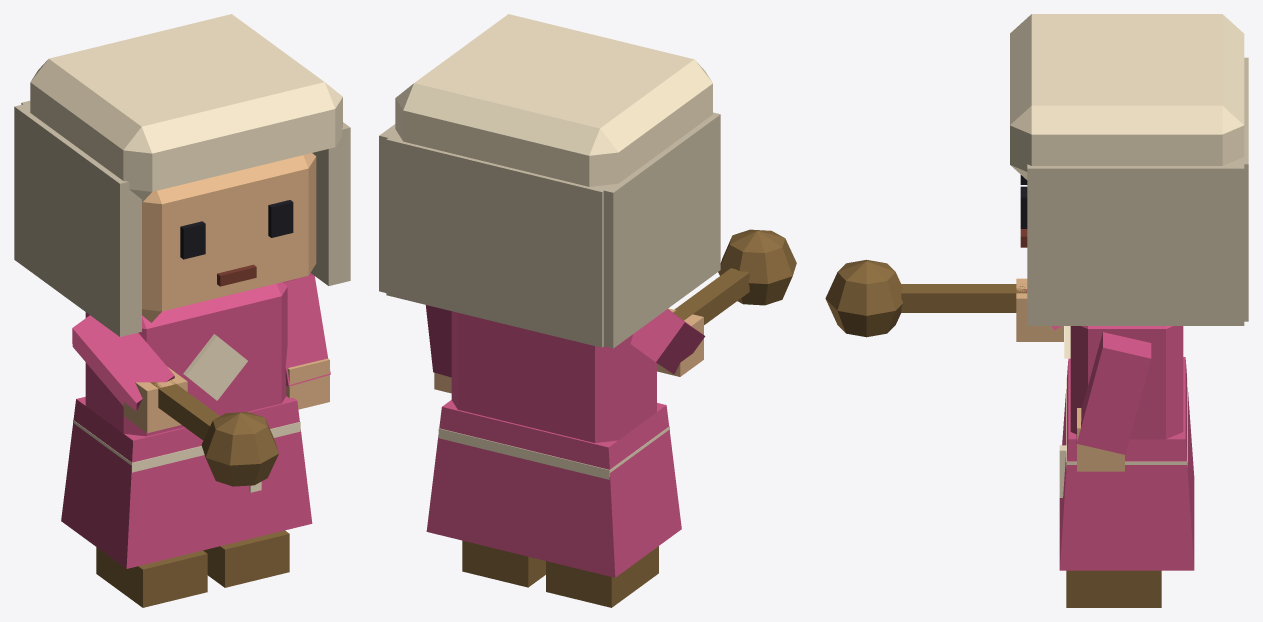
File: cleric_common.glb
3 renders of one model, left to right at view 1: azimuth 30°, elevation 25°; view 2: azimuth 150°, elevation 25°; view 3: azimuth 270°, elevation 25°, orthographic. The views are drawn at different scales.
Parts seen in each view (by area): view 1: cleric_common_mesh; view 2: cleric_common_mesh; view 3: cleric_common_mesh.
Part boxes in pixels (left/top/right/bottom): cleric_common_mesh: left=14, top=14, right=350, bottom=607; cleric_common_mesh: left=379, top=14, right=796, bottom=607; cleric_common_mesh: left=825, top=14, right=1248, bottom=607.
Size of the model in its own units: 0.6598 by 1.3 by 0.975.
1 material, 1 textured.
